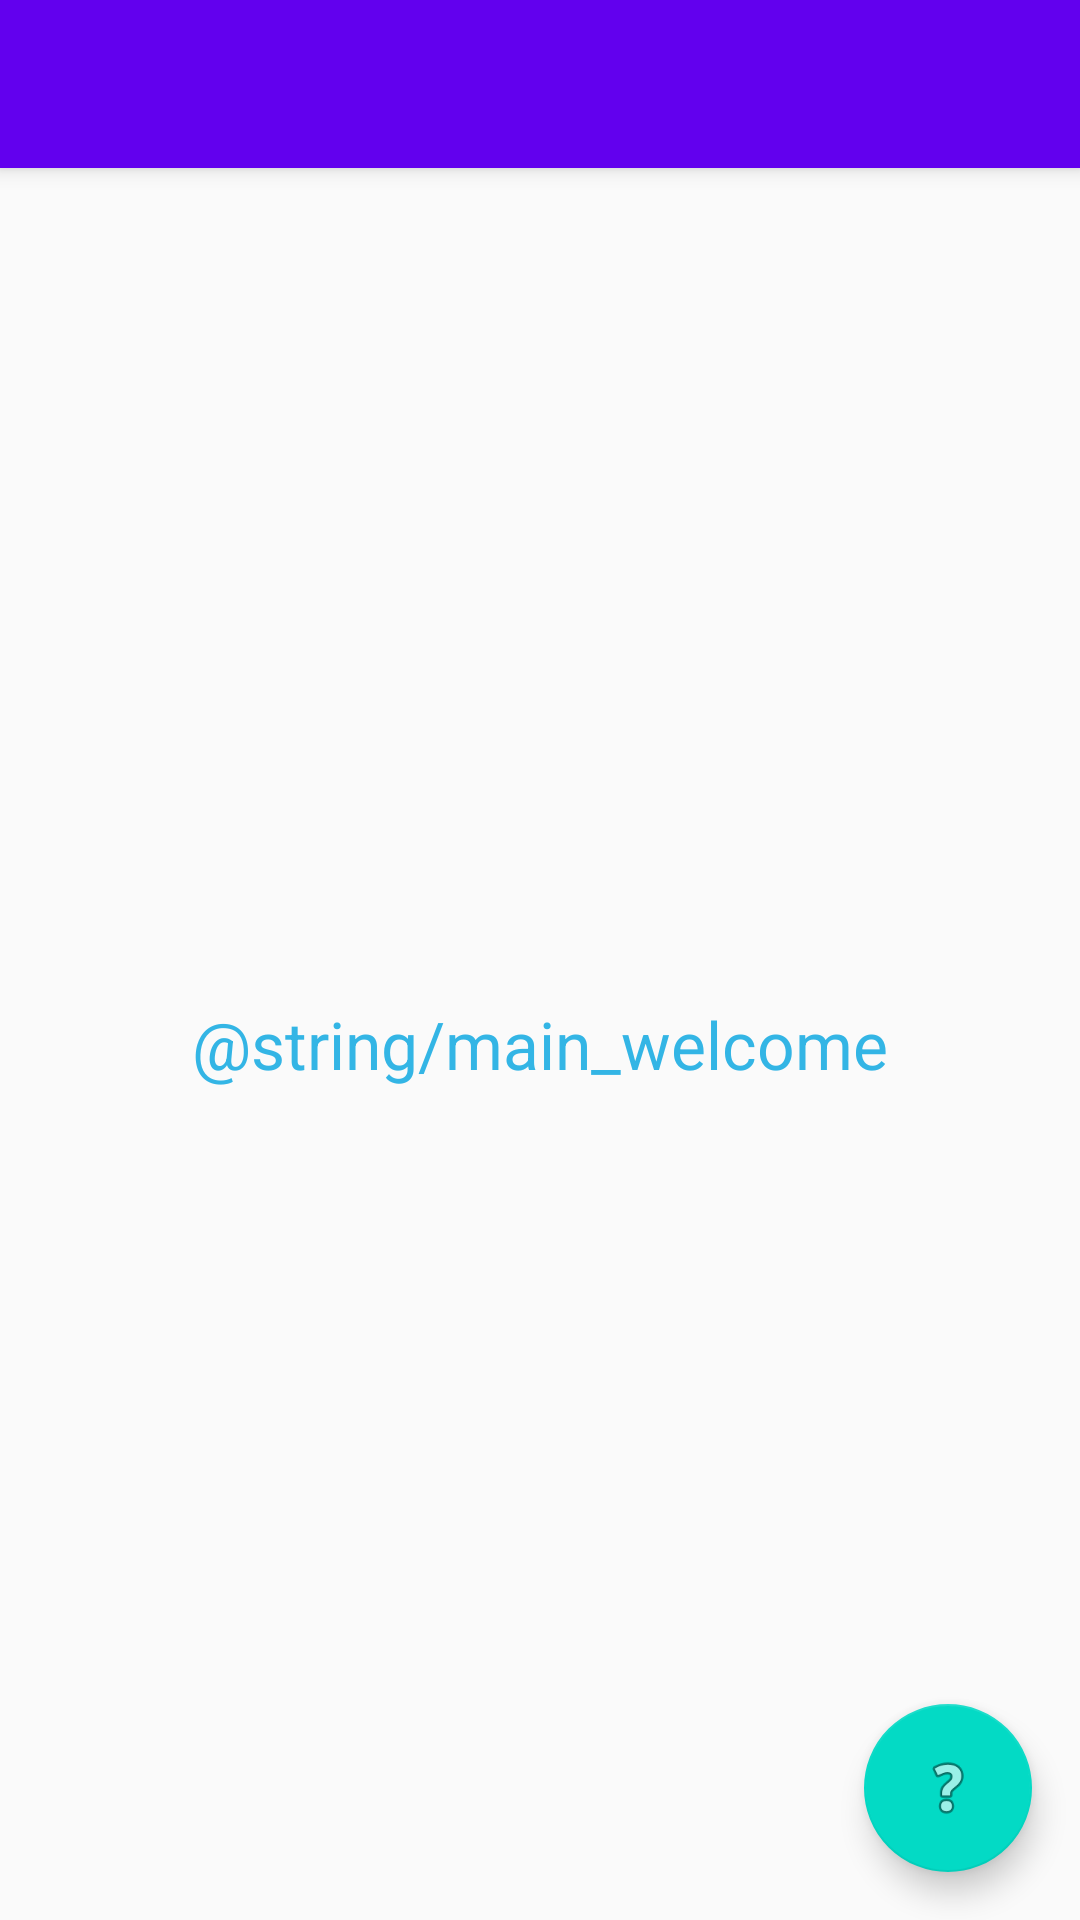

Icons on this 1080×1920 Android screen, each with its box as (x1, y1, x2, y2):
help: (864, 1704, 1032, 1872)
